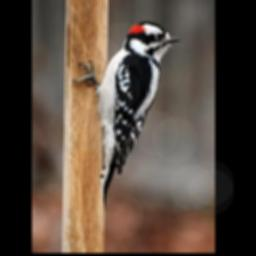Woodpecker: (72, 20, 180, 207)
